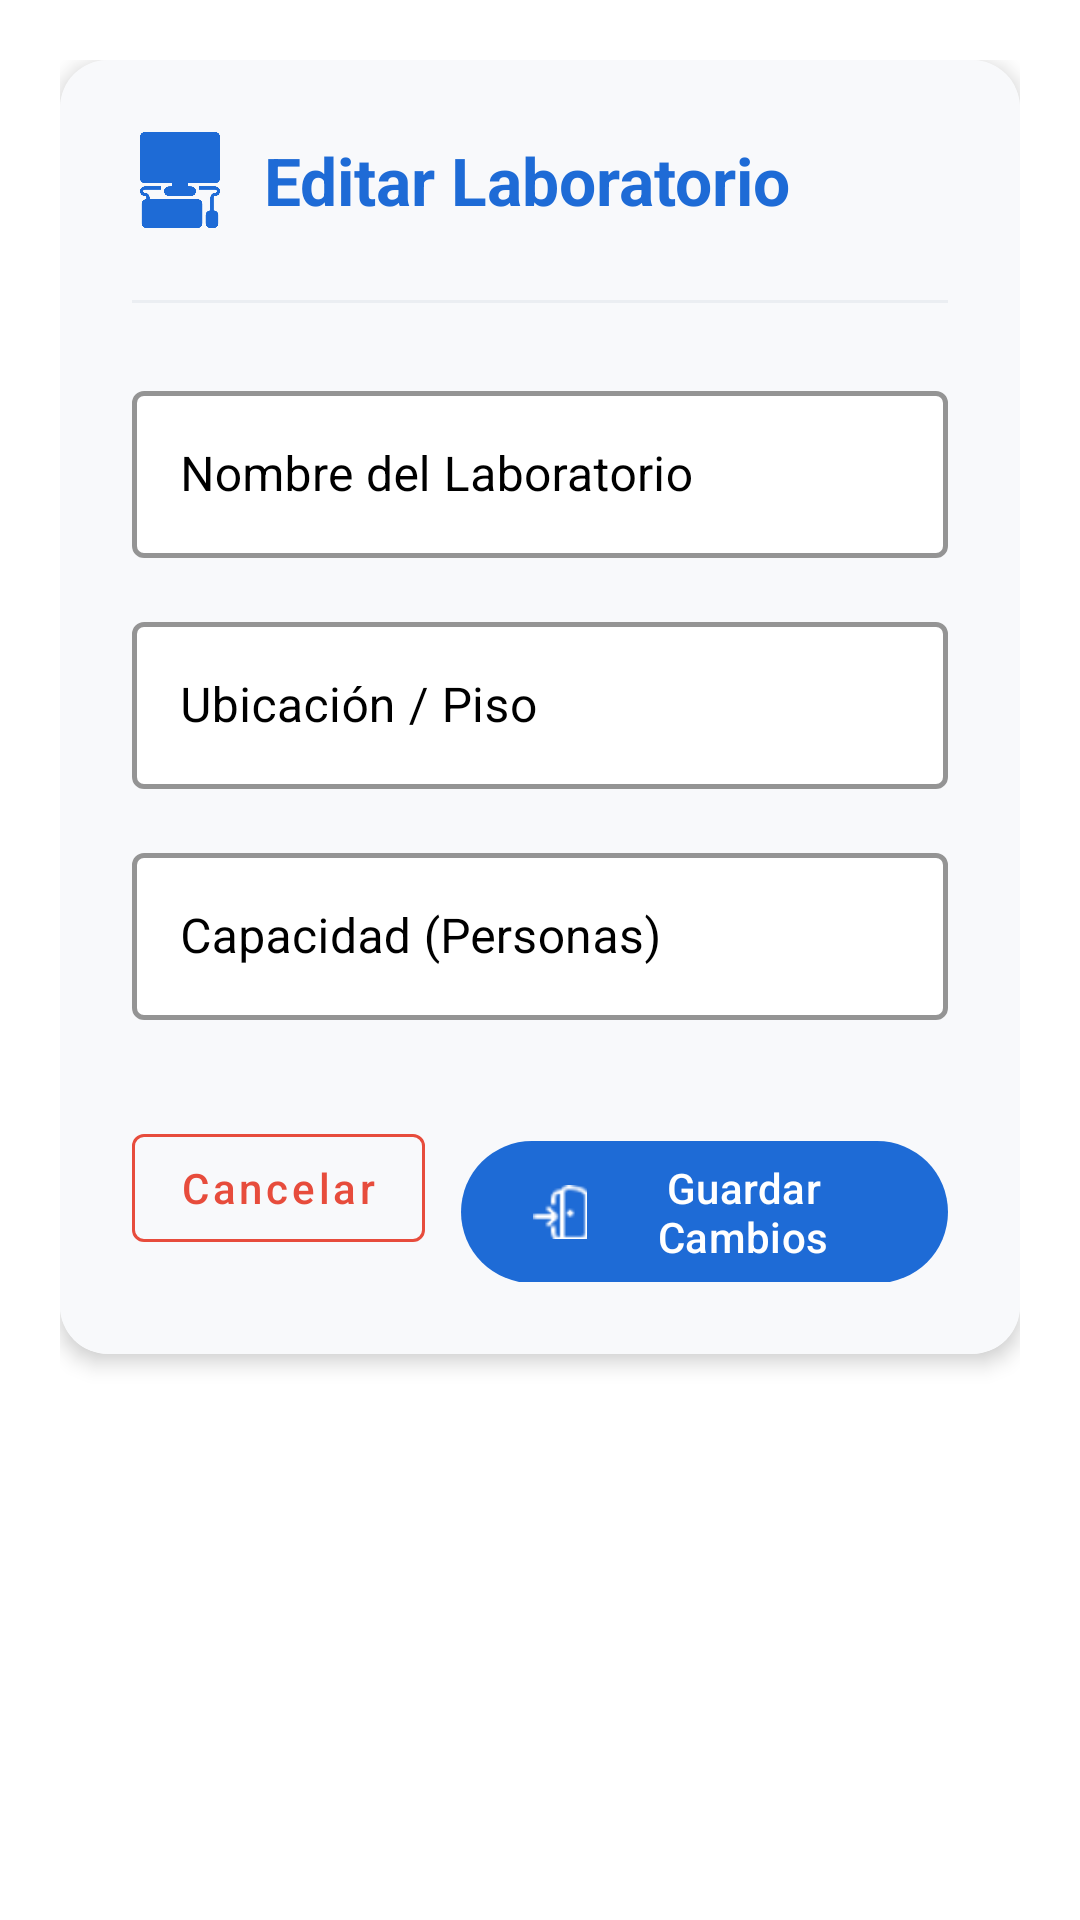

Point at icon controls on the screen. Image size 1080*1920, points as [x,y].
lab: [180,180]
